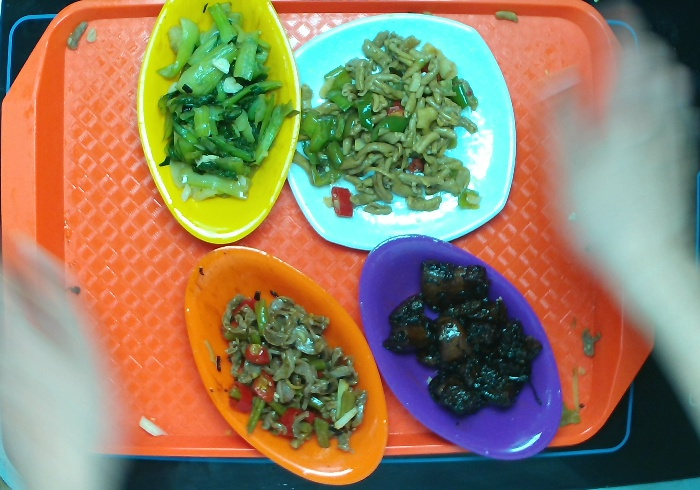RJxy-Fen_Hong_Tuo_Yuan: (357, 232, 564, 460)
RJxy-Huang_Se_Tuo_Yuan: (135, 1, 302, 246)
RJxy-Ju_Huang_Tuo_Yuan: (182, 244, 390, 487)
RJxy-Si_Fang_Die: (286, 11, 518, 251)
